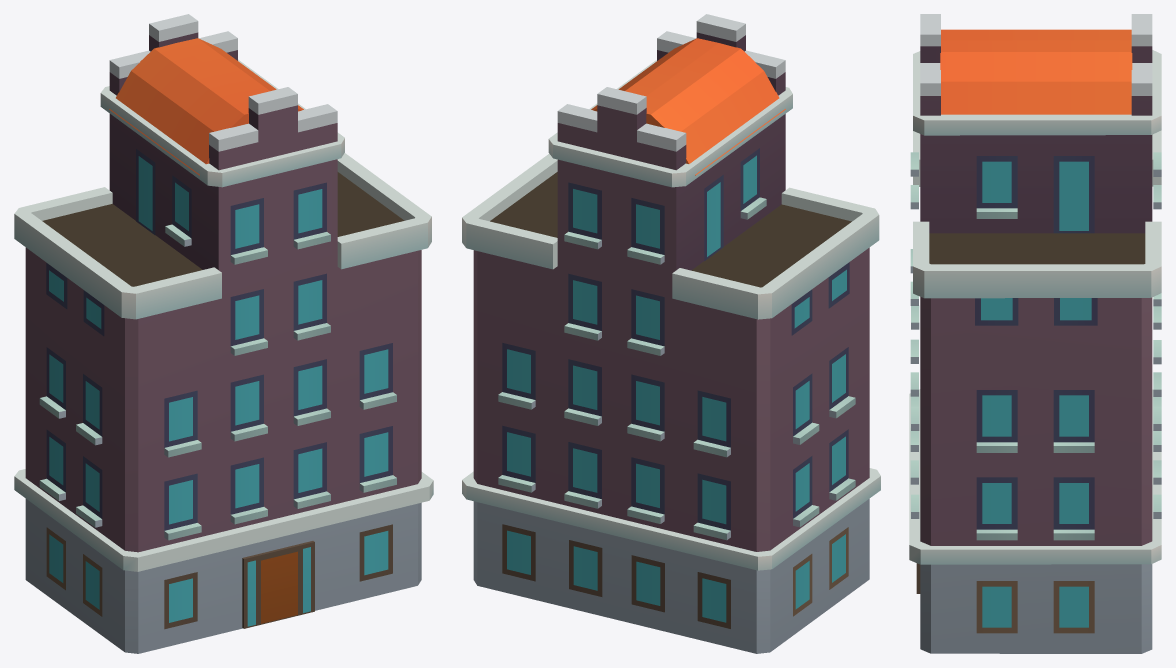
The model's file is Building_cartoon_49.fbx.
The picture shows the model from 3 angles, left to right: view 1: azimuth 30°, elevation 25°; view 2: azimuth 150°, elevation 25°; view 3: azimuth 270°, elevation 25°; orthographic projection. The views are drawn at different scales.
Visible parts, largest first — view 1: Building_cartoon_49; view 2: Building_cartoon_49; view 3: Building_cartoon_49.
Boxes of the visible parts, box(x1,y1,x2,y2) form: Building_cartoon_49: box(14, 14, 433, 653); Building_cartoon_49: box(462, 14, 880, 653); Building_cartoon_49: box(909, 14, 1161, 653).
Bounding box in the file's own units: 1195 × 1908 × 790.
